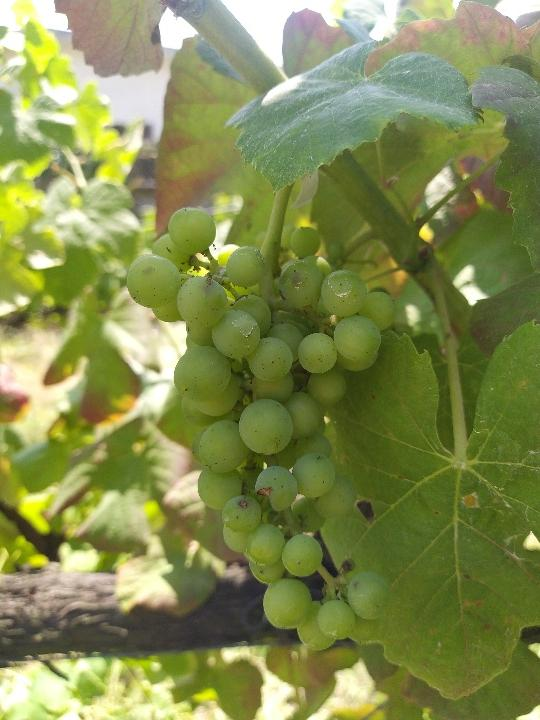grape: (124, 205, 401, 651)
